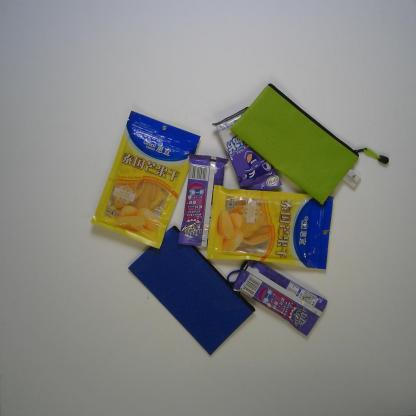Candy: (230, 256, 329, 338), (209, 102, 284, 198), (174, 153, 228, 248)
Dried Fruit: (89, 107, 202, 250), (204, 183, 335, 270)
Stationery: (228, 83, 390, 207), (126, 224, 255, 357)
